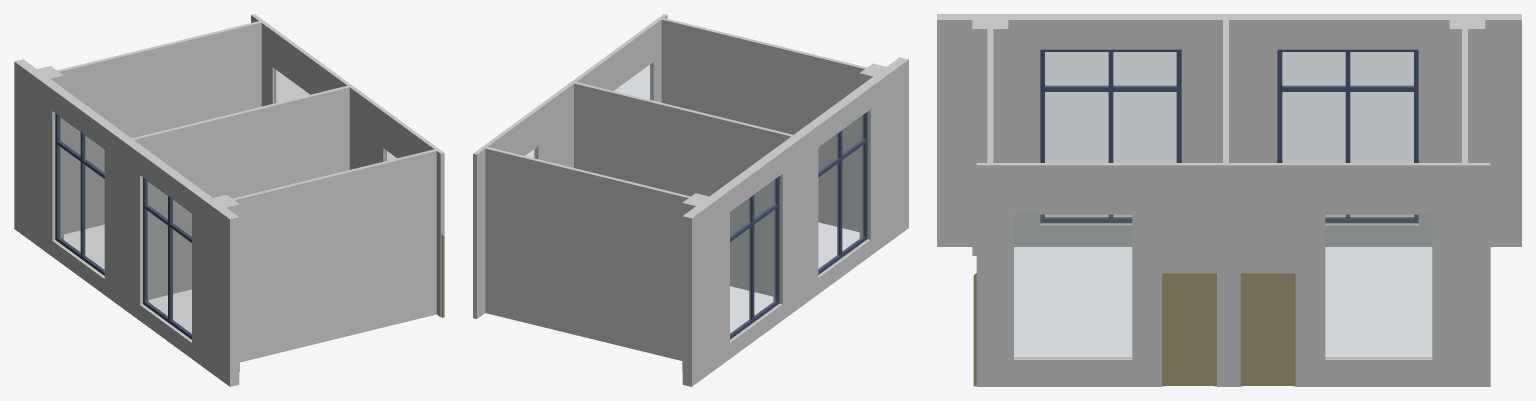
The model's file is JAS.glb.
3 views of the same model, side by side, from view 1: azimuth 30°, elevation 25°; view 2: azimuth 150°, elevation 25°; view 3: azimuth 270°, elevation 25° (orthographic). The views are drawn at different scales.
Visible parts, largest first — view 1: JAS; view 2: JAS; view 3: JAS.
Part boxes in pixels (x1,y1,x2,y2): JAS: [14, 14, 444, 386]; JAS: [473, 14, 908, 386]; JAS: [937, 14, 1521, 386].
Size of the model in its own units: 6.01 by 4.2 by 9.8.
